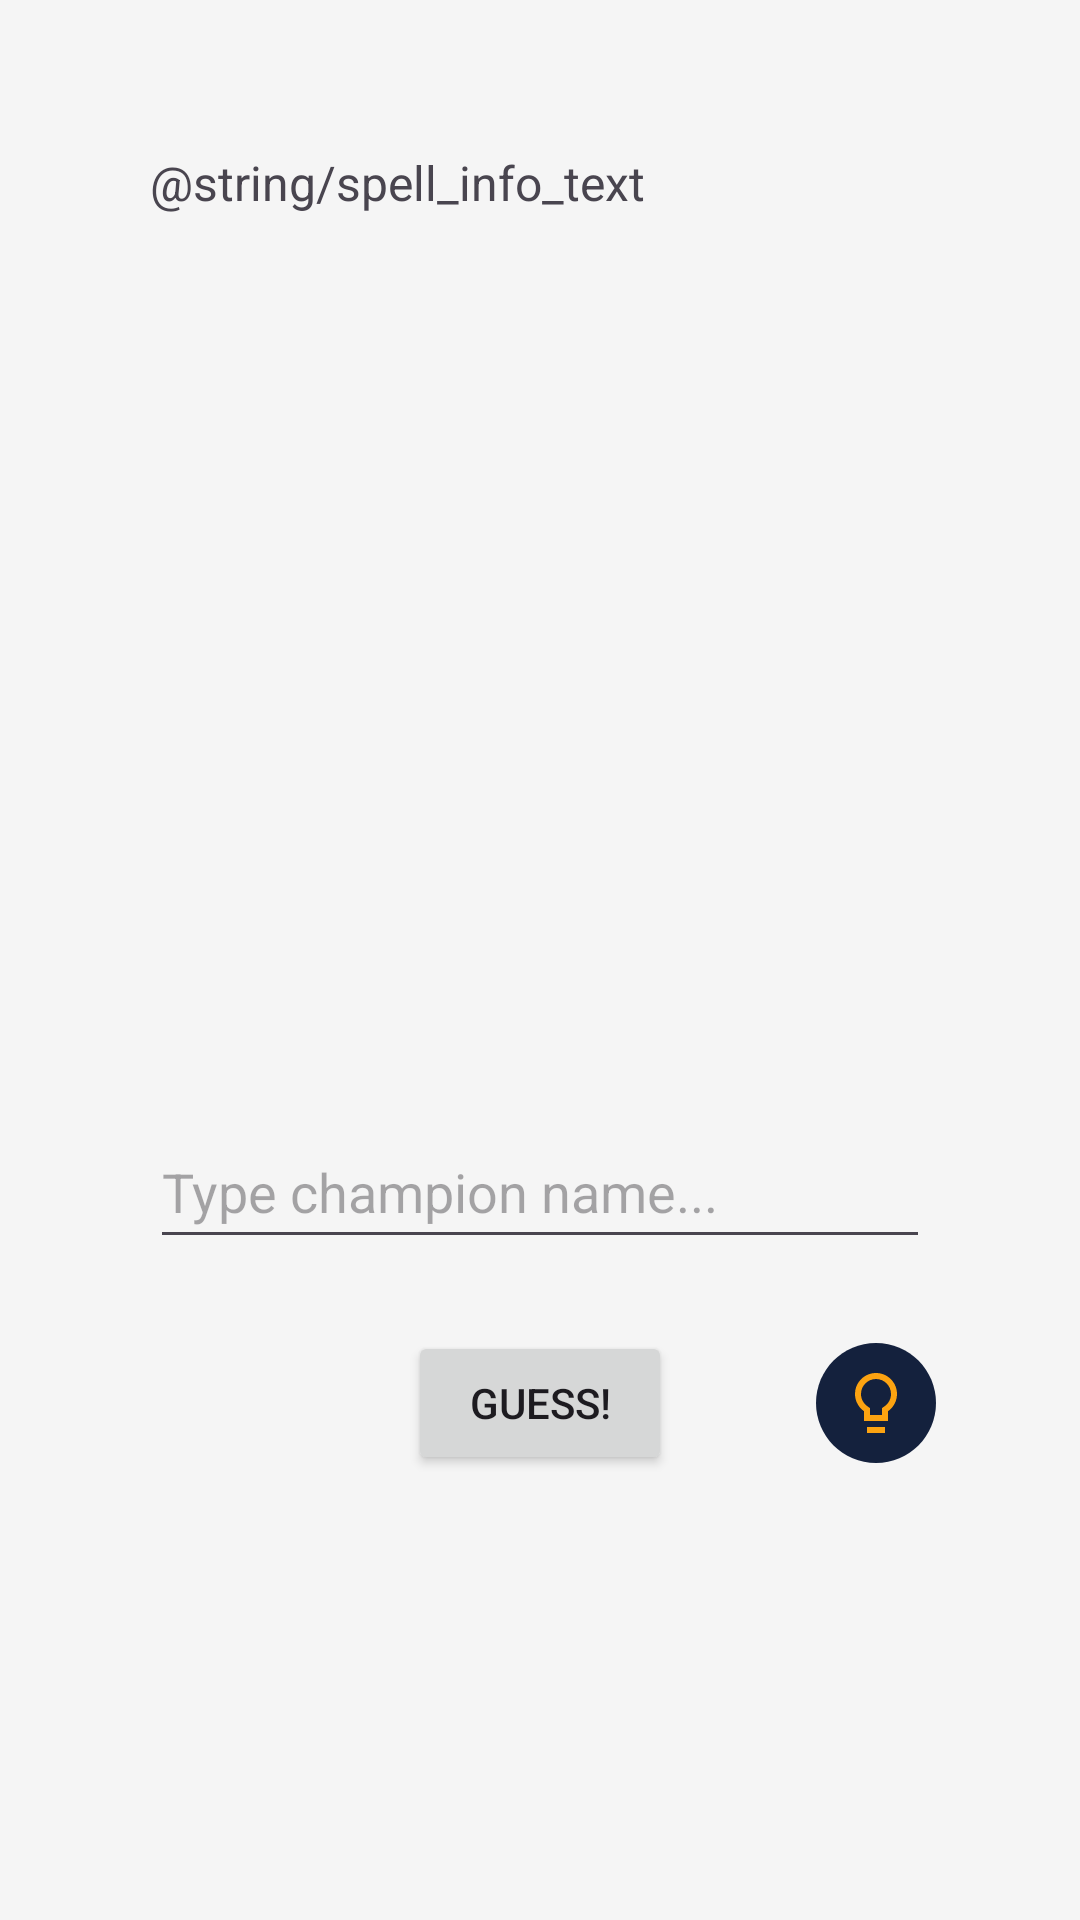

Where icons sit on this 1080 × 1920 app screen, as (x1, y1, x2, y2):
solve: (816, 1343, 936, 1463)
